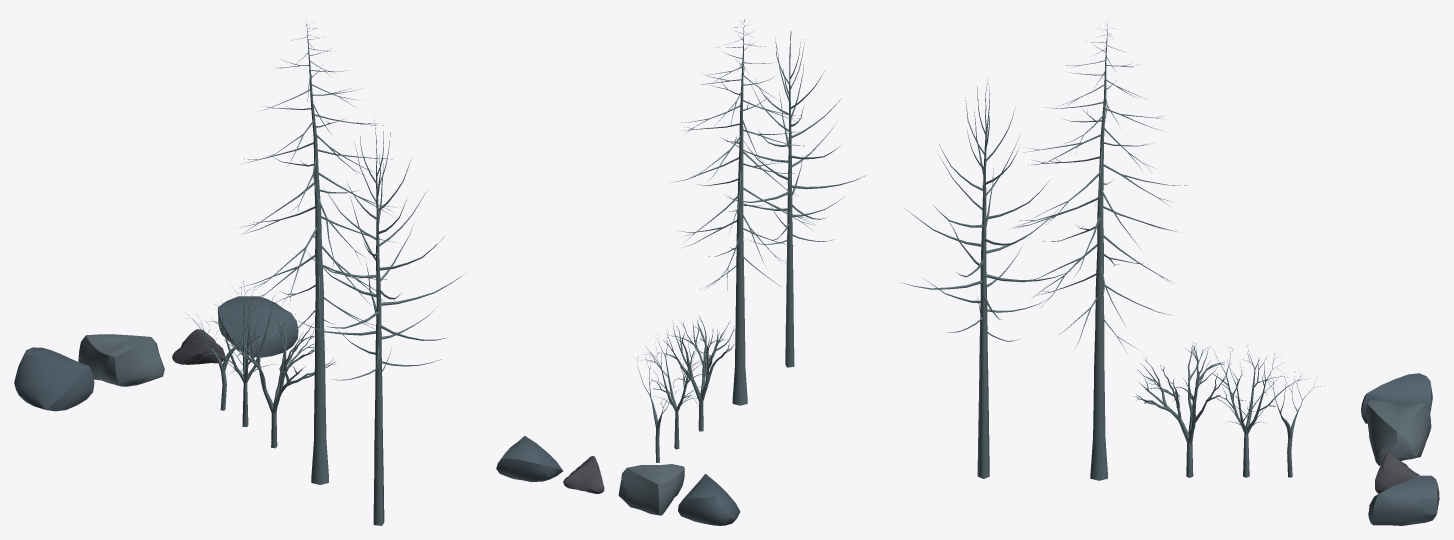
The model's file is SnowyFields.fbx.
The picture shows the model from 3 angles, left to right: view 1: azimuth 30°, elevation 25°; view 2: azimuth 150°, elevation 25°; view 3: azimuth 270°, elevation 25°; orthographic projection. The views are drawn at different scales.
Visible parts, largest first — view 1: tree.003, tree.002, rock.002, rock, rock.003, tree.004, tree, rock.001, tree.001; view 2: tree.003, tree.002, rock, rock.002, rock.003, tree.004, tree, rock.001, tree.001; view 3: tree.003, tree.002, rock, rock.003, tree.004, rock.002, tree, rock.001.
Part boxes in pixels (x1,y1,x2,y2): tree.003: (240,22,400,484); tree.002: (294,116,464,525); rock.002: (14,347,94,411); rock: (78,334,164,386); rock.003: (217,296,298,357); tree.004: (224,312,337,448); tree: (189,281,295,426); rock.001: (172,329,225,364); tree.001: (186,289,261,410); tree.003: (670,19,815,405); tree.002: (723,30,866,367); rock: (618,464,684,515); rock.002: (678,474,740,525); rock.003: (496,436,562,482); tree.004: (663,315,735,431); tree: (637,330,708,449); rock.001: (563,456,604,493); tree.001: (637,357,678,462); tree.003: (1009,21,1187,480); tree.002: (901,77,1069,478); rock: (1366,400,1431,465); rock.003: (1368,475,1439,525); tree.004: (1133,342,1226,477); rock.002: (1361,373,1432,423); tree: (1212,346,1308,477); rock.001: (1375,452,1419,493).
Bounding box in the file's own units: 1995 × 3325 × 3562.
